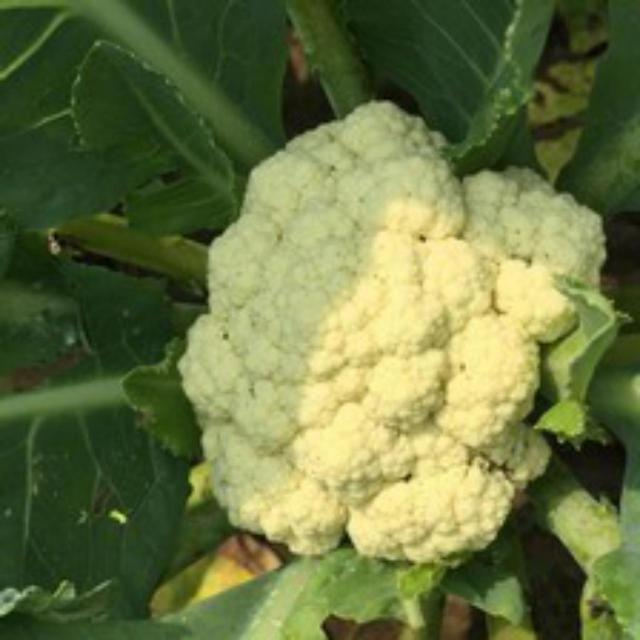cauliflower: (174, 85, 618, 570)
